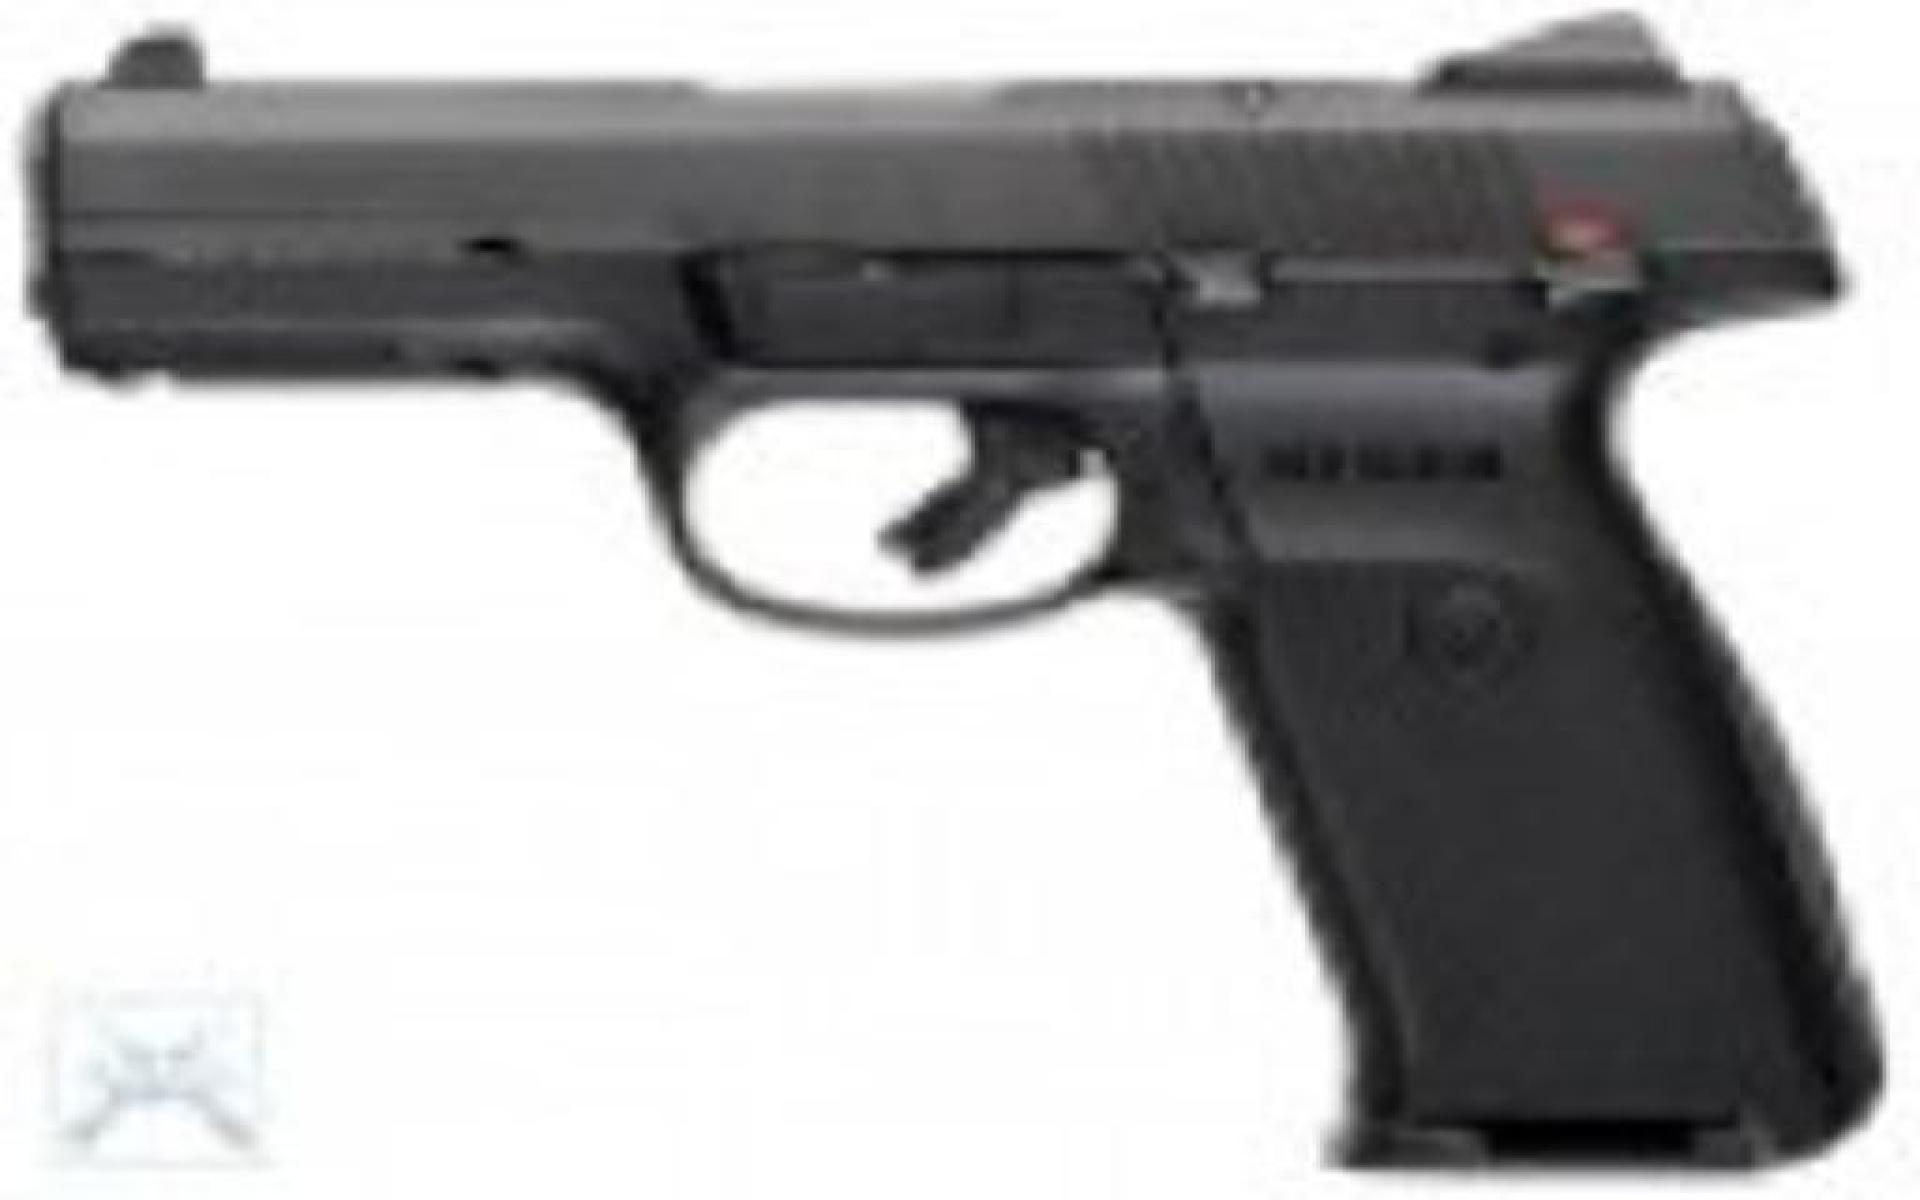gun: (57, 7, 1856, 1176)
